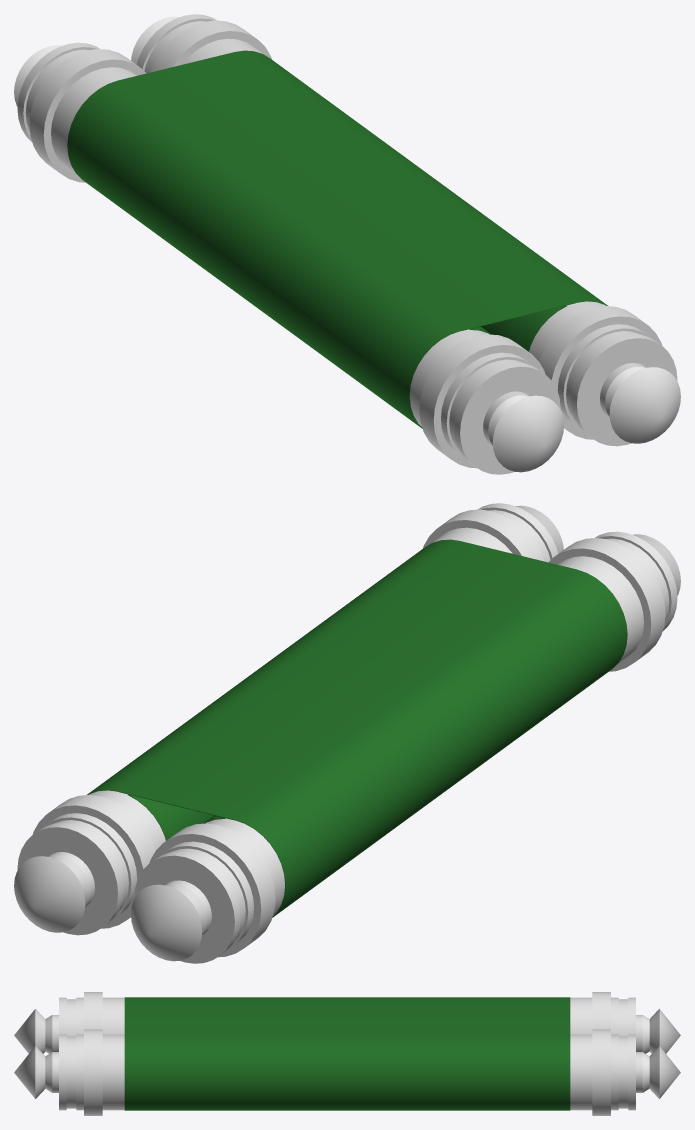
The model's file is scroll green.fbx.
3 renders of one model, top to bottom at view 1: azimuth 30°, elevation 25°; view 2: azimuth 150°, elevation 25°; view 3: azimuth 270°, elevation 25°, orthographic. The views are drawn at different scales.
Parts seen in each view (by area): view 1: Cylinder.010; view 2: Cylinder.010; view 3: Cylinder.010.
Part boxes in pixels (x1=…): Cylinder.010: x1=14, y1=14, x2=680, y2=474; Cylinder.010: x1=14, y1=503, x2=680, y2=963; Cylinder.010: x1=14, y1=992, x2=680, y2=1115.
Size of the model in its own units: 78.02 by 38.72 by 298.
